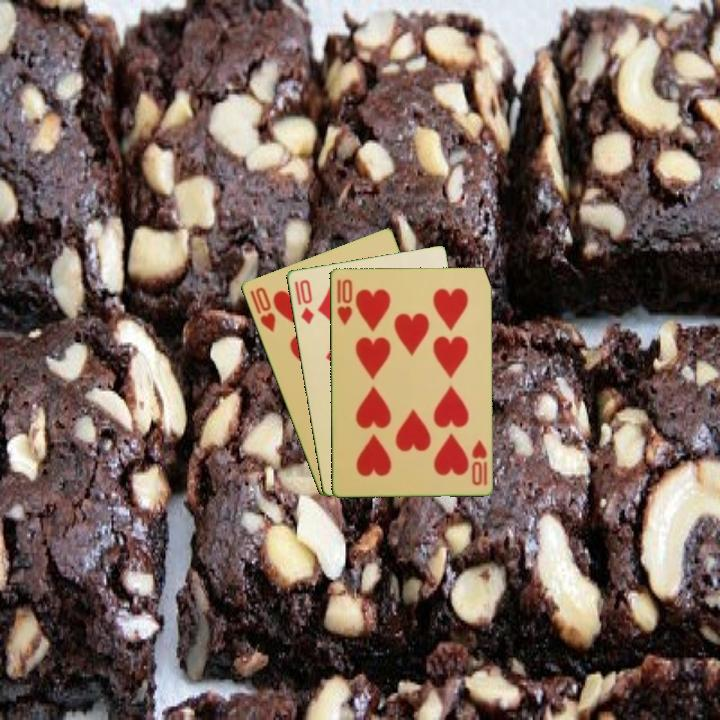10d: (296, 276, 317, 327)
10h: (251, 283, 278, 335), (333, 275, 355, 328), (468, 436, 489, 488)
